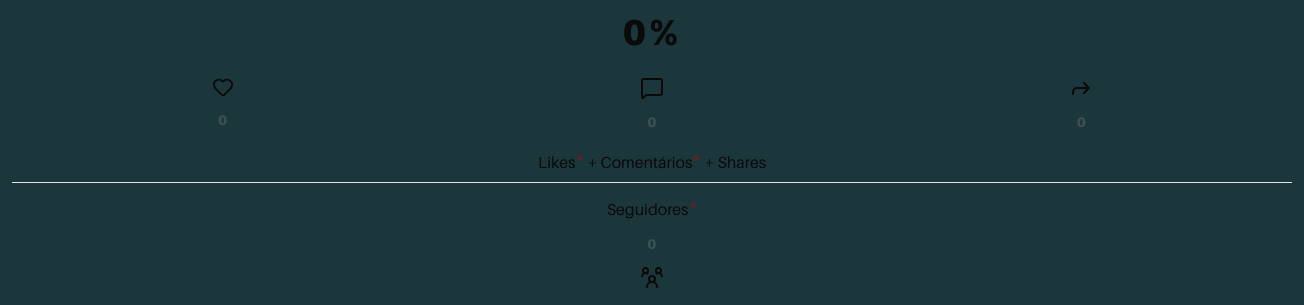
Test: EngagementCalculator › accepts a rate with a decimal comma when edited directly
Click the heading "0%". click: (652, 32)
box: [622,12,682,52]
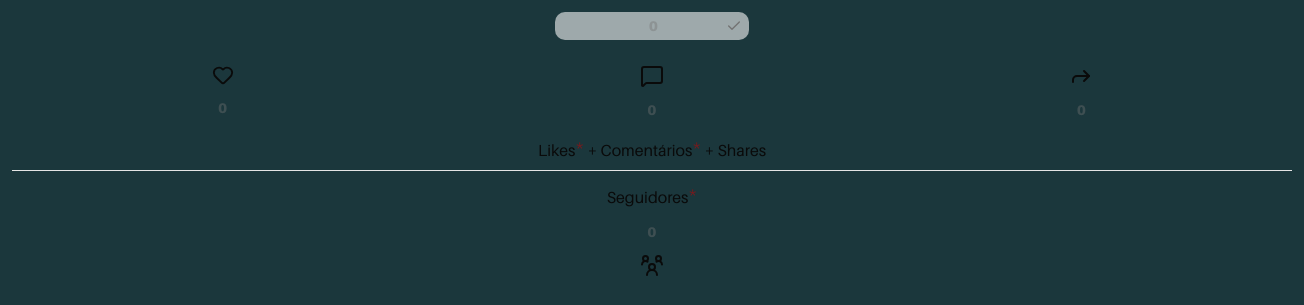
Type "4,5" into the field named "Taxa de engajamento". click: (652, 26)
box: [555,12,749,40]
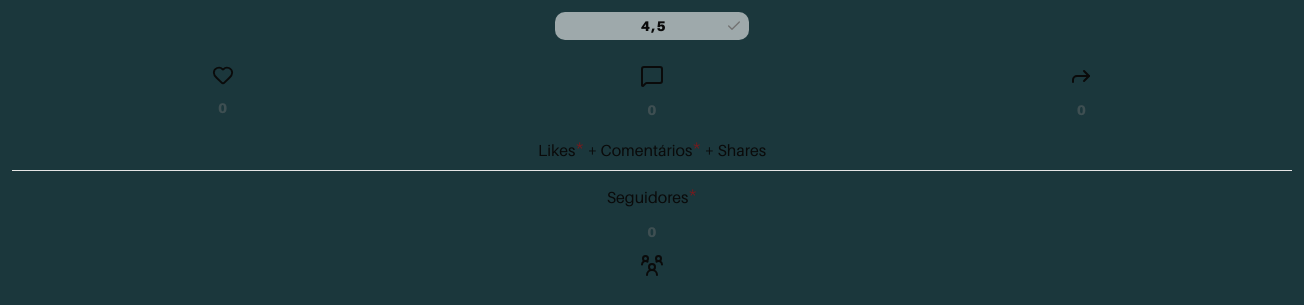
Press Tab
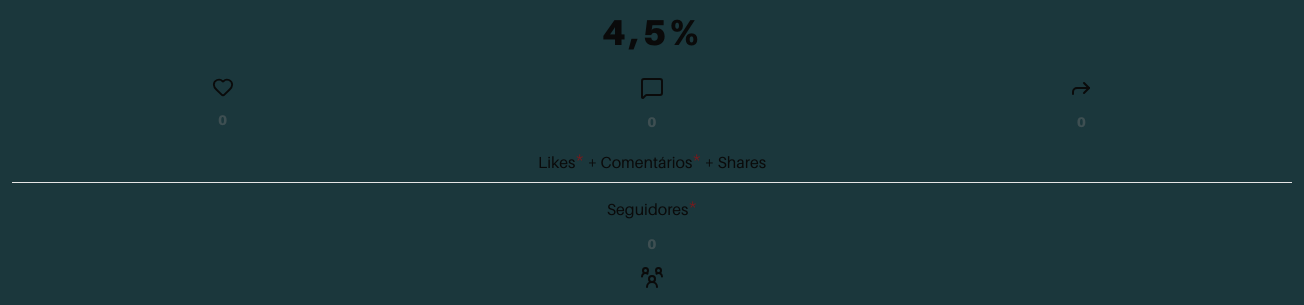
Expected: the heading "4,5%" is shown, [602,12,702,52]
